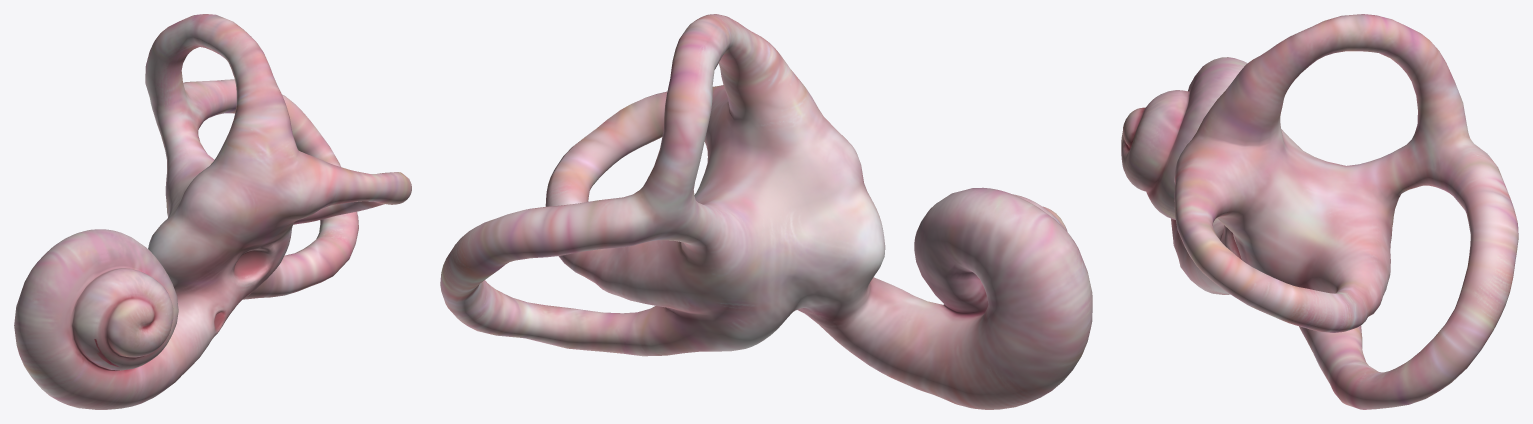
The model's file is cochleafinal.glb.
3 views of the same model, side by side, from view 1: azimuth 30°, elevation 25°; view 2: azimuth 150°, elevation 25°; view 3: azimuth 270°, elevation 25° (orthographic). The views are drawn at different scales.
Parts seen in each view (by area): view 1: cochleafinal; view 2: cochleafinal; view 3: cochleafinal.
Part boxes in pixels (<box>): cochleafinal: <box>14,14,411,409</box>; cochleafinal: <box>440,14,1092,409</box>; cochleafinal: <box>1121,14,1518,409</box>.
Bounding box in the file's own units: 8.71 × 6.08 × 6.22.
1 material, 1 textured.
